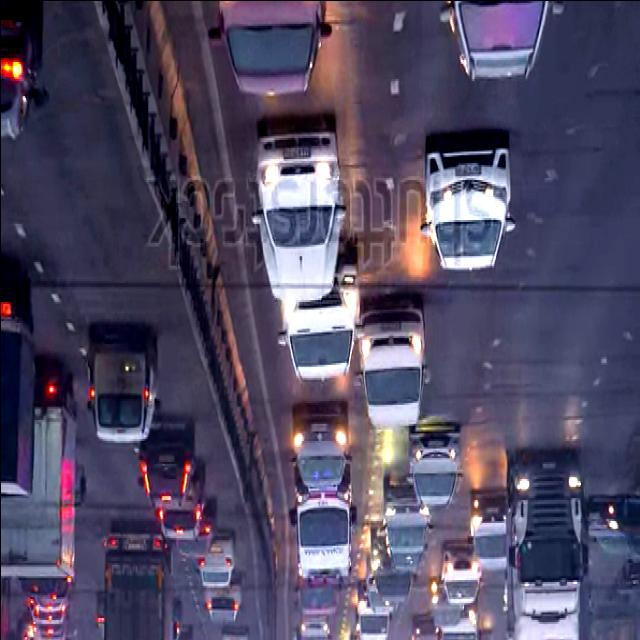ambulance: (288, 453, 354, 581)
